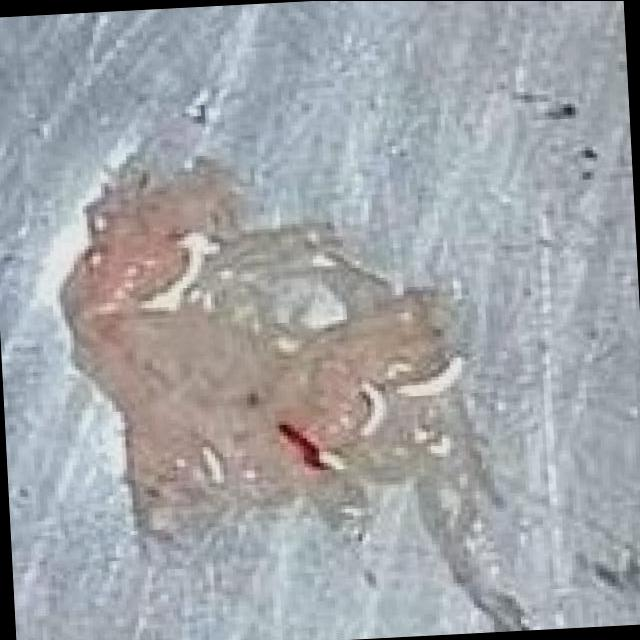General: (3, 4, 637, 638)
Pathological: (55, 156, 467, 549)
